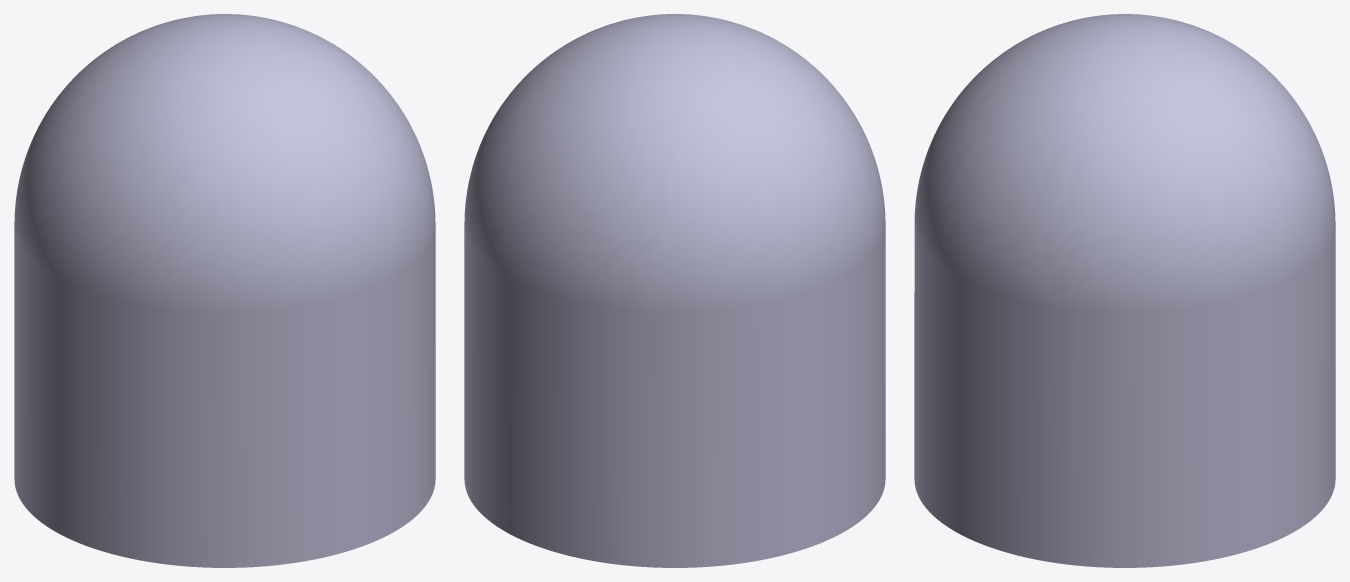
Rendered from OUTFITTING_INTERIOR__EXT. INSTRUMENTS__FWD MAST__HV2__INSTRUMENTS__FLIR MD-625.glb.
3 renders of one model, left to right at view 1: azimuth 30°, elevation 25°; view 2: azimuth 150°, elevation 25°; view 3: azimuth 270°, elevation 25°, orthographic.
Size of the model in its own units: 0.1524 by 0.1778 by 0.1524.
